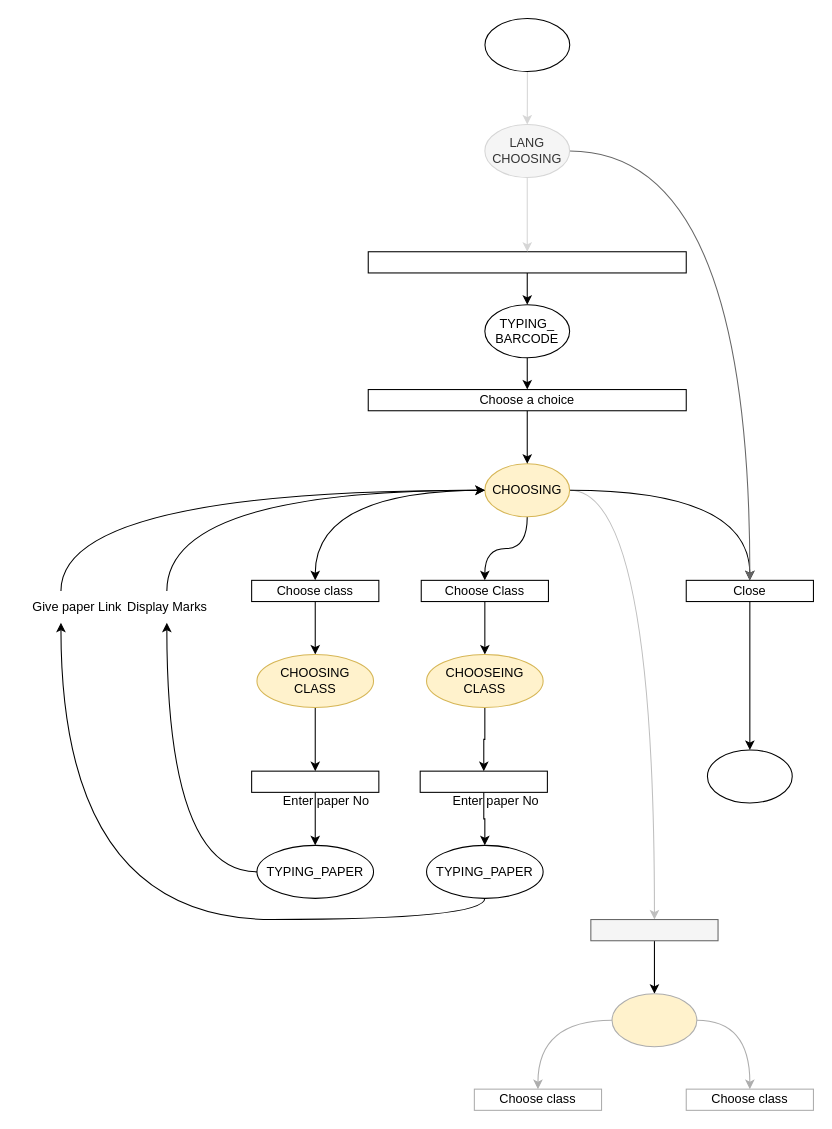
The diagram is 832 pixels wide and 1129 high, and some of its shapes have lost their labels. The centre of each missing label's shape, as x and y in pixels:
"Analysis" goes at pixel 654 929.
"CHOOSING TYPE" goes at pixel 654 1020.
"END" goes at pixel 749 776.
"Enter Your Barcode Number" goes at pixel 526 262.
"Get Marks" goes at pixel 315 781.
"Get Paper" goes at pixel 483 781.
"START" goes at pixel 527 44.
